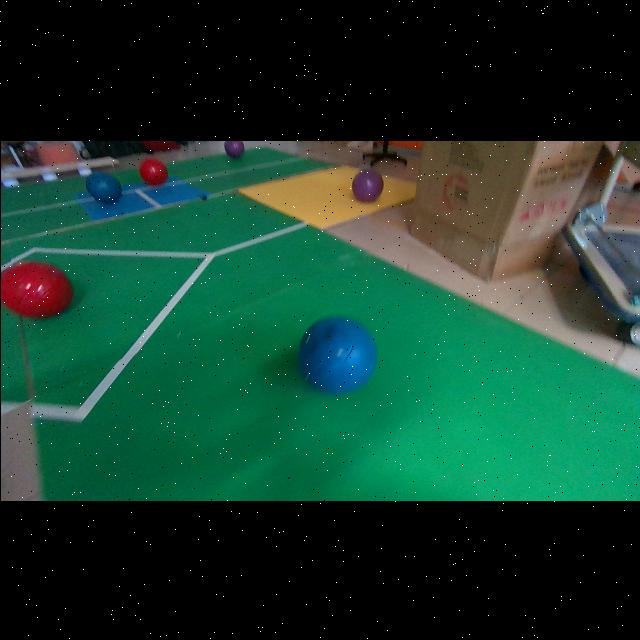B: (298, 316, 376, 392), (85, 171, 121, 204)
P: (351, 168, 382, 201), (224, 140, 244, 156)
R: (0, 260, 72, 317), (138, 158, 168, 184)
